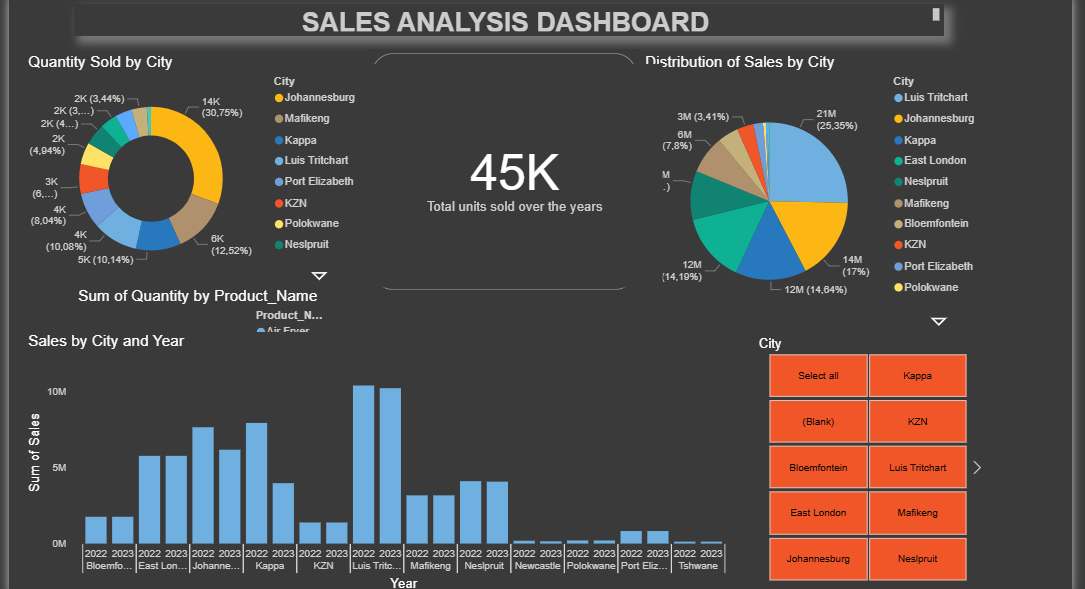

The dashboard page shown, as its layout file describes it:
{"tool":"powerbi","page":{"name":"Sales Analysis DashBoard","canvas":[1280,720],"ordinal":0},"visuals":[{"type":"pieChart","fields":{"Y":["Sum(Sales.Quantity)"],"Category":["Products.Product_Name"]},"box":[78.6,350,315.7,308.6],"z":0},{"type":"textbox","box":[78.8,9.2,1047.2,38.1],"z":1000},{"type":"columnChart","title":"Sales by City and Year","fields":{"Category":["City.City","Date.Year"],"Y":["Sum(Sales.Sales)"]},"box":[18.6,404.3,858.6,315.7],"z":2000},{"type":"pieChart","fields":{"Y":["Sum(Sales.Sales)"],"Category":["City.City"]},"box":[761.4,68.6,415.7,335.7],"z":3000},{"type":"donutChart","title":"Quantity Sold by City","fields":{"Category":["City.City"],"Y":["Sum(Sales.Quantity)"]},"box":[18.6,68.6,412.9,281.4],"z":4000},{"type":"cardVisual","fields":{"Data":["Sum(Sales.Gross Profit)"]},"box":[431.4,64.3,330,295.7],"z":5000},{"type":"slicer","fields":{"Values":["City.City"]},"box":[890,404.3,287.1,305.7],"z":6000},{"type":"card","fields":{"Values":["Sum(Sales.Quantity)"]},"box":[431.4,81.4,355.7,268.6],"z":7000}]}

Visuals, with their boxes on the page's 1280x720 design canvas (x1, y1, x2, y2). These are canvas units, not pixel positions in the 1085x589 screenshot, which may show the page scaled, cropped or inside an application window:
pieChart - Sum(Sales.Quantity) x Products.Product_Name: 79/350/394/659
textbox: 79/9/1126/47
"Sales by City and Year" columnChart: 19/404/877/720
pieChart - Sum(Sales.Sales) x City.City: 761/69/1177/404
"Quantity Sold by City" donutChart: 19/69/432/350
cardVisual - Sum(Sales.Gross Profit): 431/64/761/360
slicer - City.City: 890/404/1177/710
card - Sum(Sales.Quantity): 431/81/787/350
